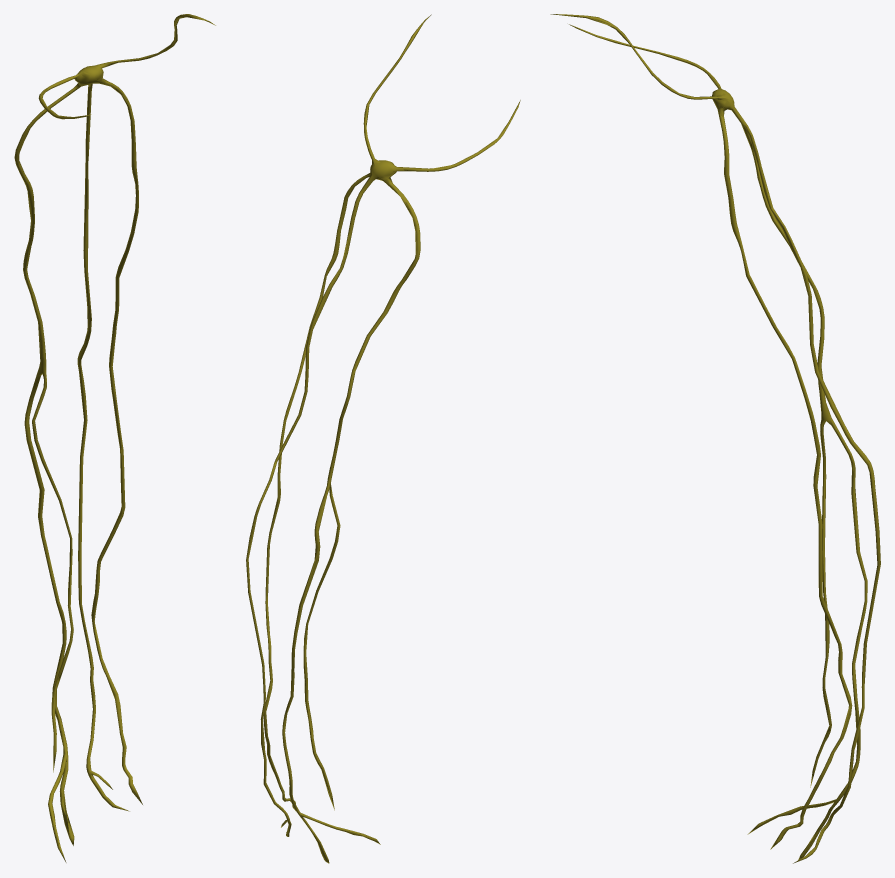
File: R lymphocentrum popliteum.fbx
The picture shows the model from 3 angles, left to right: view 1: azimuth 30°, elevation 25°; view 2: azimuth 150°, elevation 25°; view 3: azimuth 270°, elevation 25°; orthographic projection. The views are drawn at different scales.
Parts seen in each view (by area): view 1: R lymphocentrum popliteum, R lymphocentrum popliteum low; view 2: R lymphocentrum popliteum, R lymphocentrum popliteum low; view 3: R lymphocentrum popliteum, R lymphocentrum popliteum low.
Part boxes in pixels (x1,y1,x2,y2): R lymphocentrum popliteum: (14, 14, 215, 862); R lymphocentrum popliteum low: (14, 14, 208, 847); R lymphocentrum popliteum: (246, 14, 520, 863); R lymphocentrum popliteum low: (246, 20, 519, 840); R lymphocentrum popliteum: (550, 14, 880, 863); R lymphocentrum popliteum low: (565, 15, 880, 856).
Bounding box in the file's own units: 10.48 × 52.64 × 18.59.
